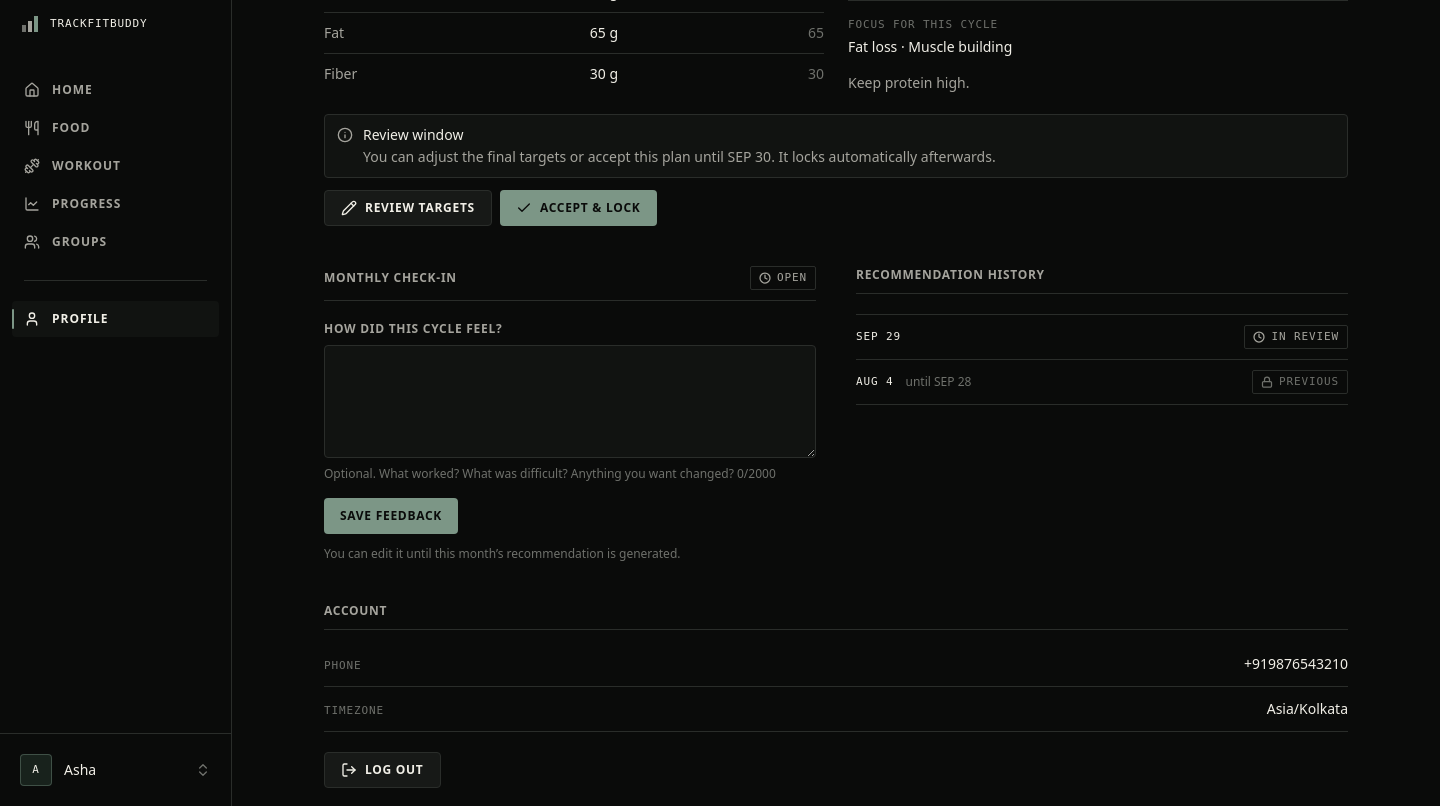
Test: Current plan › monthly check-in and history › shows a friendly message when the server has closed the window
(page scrolled)
Type "Late note" into the text box labelled "How did this cycle feel?".
click(570, 402); type("Late note")  # box [324,345,816,458]
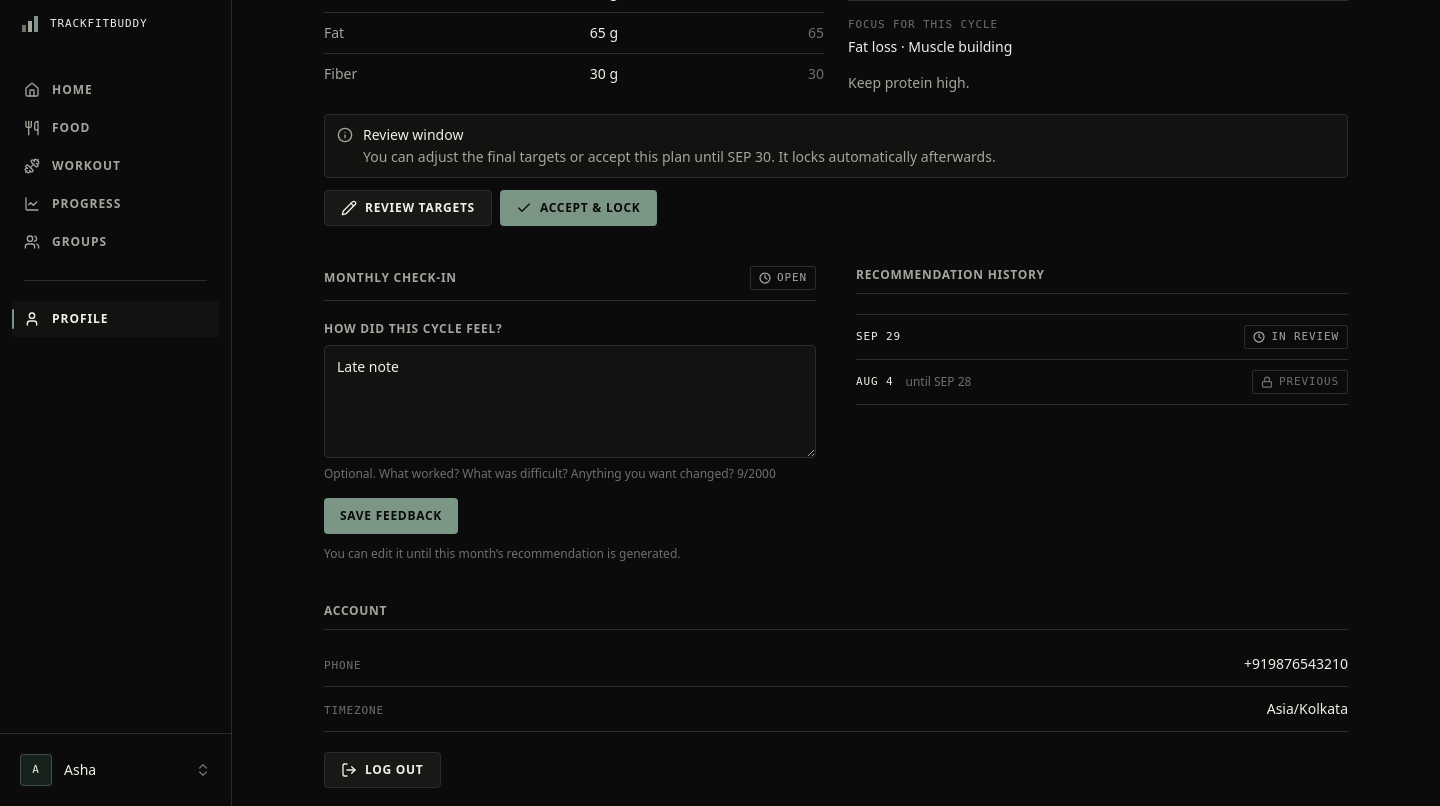
Click the button "Save feedback".
click(391, 516)  # box [324,498,458,534]
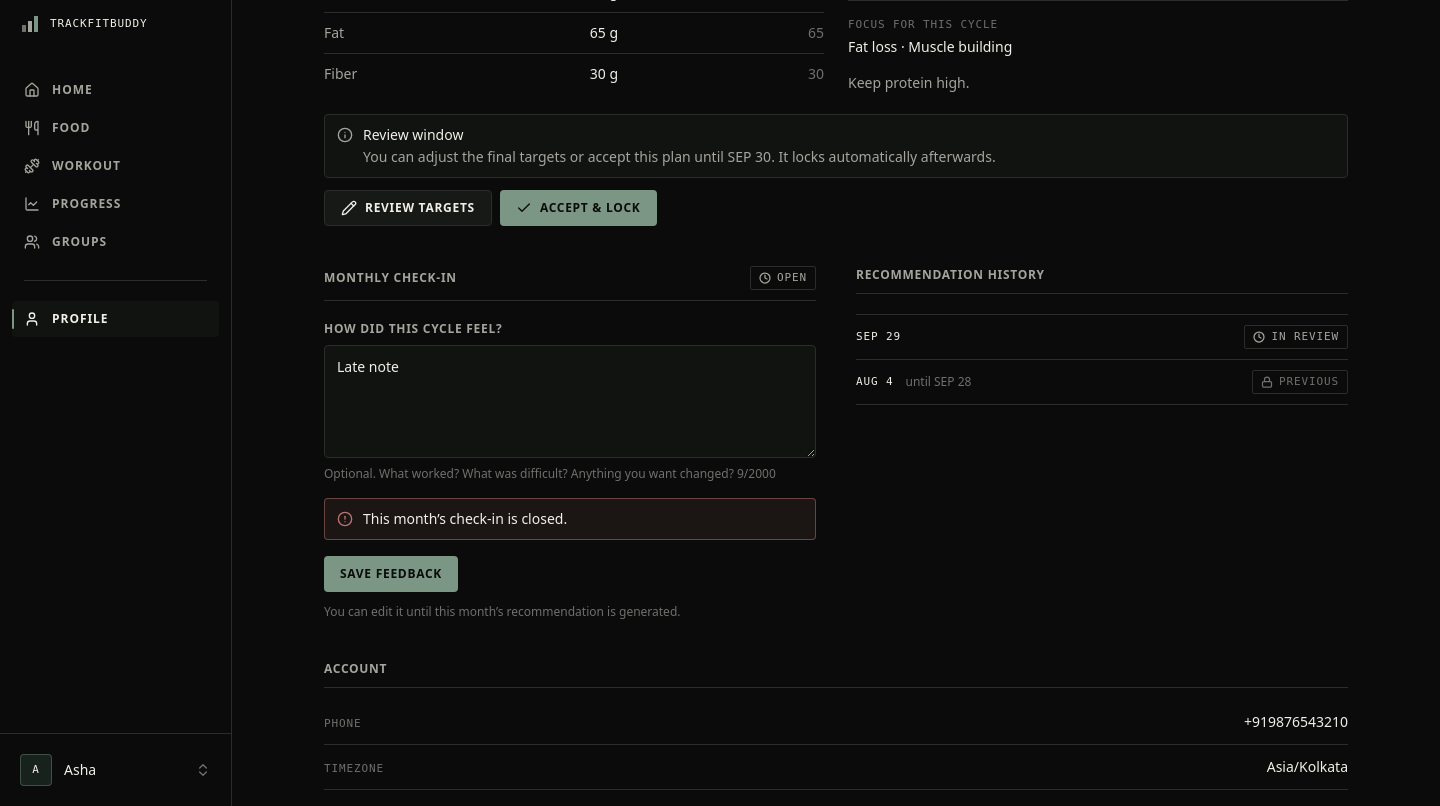
Check: the text "This month’s check-in is closed." is shown, box [363,509,567,529]
